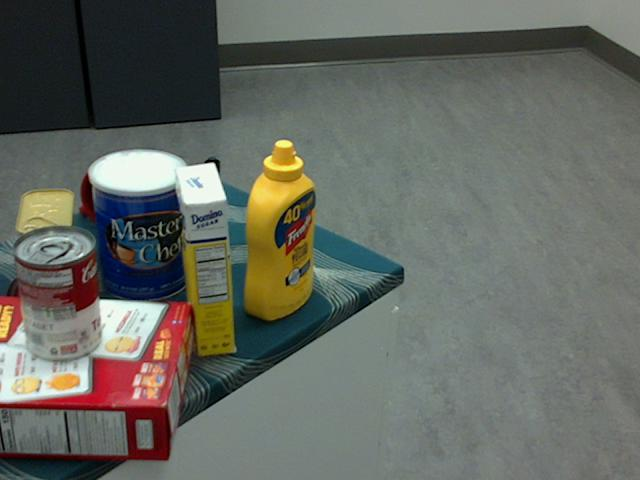cracker_box: (0, 293, 192, 461)
large_marker: (204, 155, 223, 249)
master_chef_can: (86, 148, 189, 303)
mug: (78, 150, 170, 235)
mustard_bottle: (242, 138, 316, 320)
potted_meat_can: (16, 187, 77, 295)
sugar_box: (175, 160, 235, 357)
tomato_soup_can: (12, 225, 101, 361)
tuna_fish_can: (6, 257, 98, 345)
